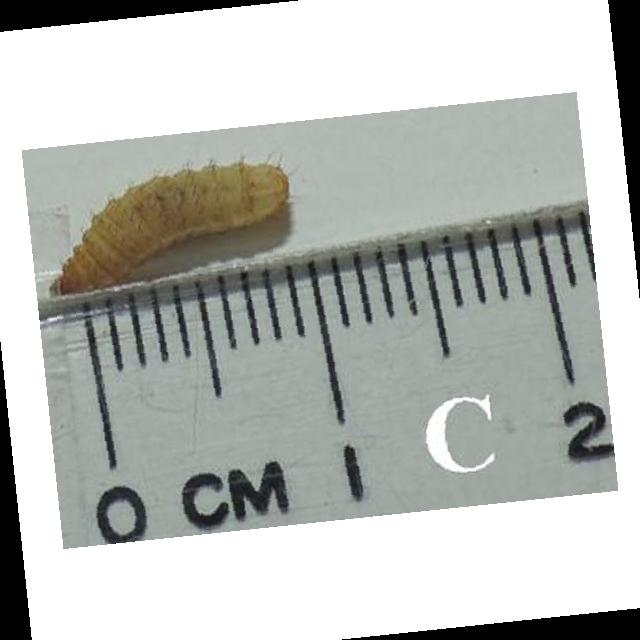Maggot: (42, 155, 299, 302)
